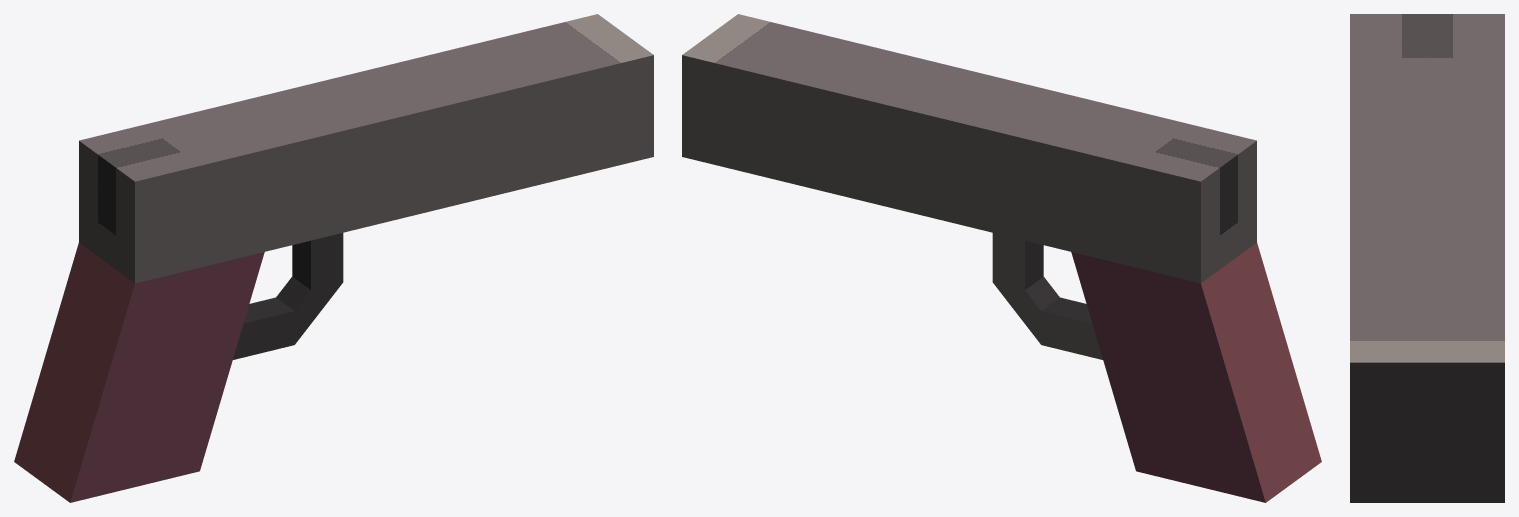
The model's file is gun.gltf.
The picture shows the model from 3 angles, left to right: view 1: azimuth 30°, elevation 25°; view 2: azimuth 150°, elevation 25°; view 3: azimuth 270°, elevation 25°; orthographic projection. The views are drawn at different scales.
Parts seen in each view (by area): view 1: mesh (×2); view 2: mesh (×2); view 3: mesh.
Boxes of the visible parts, x1=… form: mesh (×2): x1=14, y1=14, x2=653, y2=502; mesh (×2): x1=682, y1=14, x2=1321, y2=502; mesh: x1=1350, y1=14, x2=1504, y2=502.
Size of the model in its own units: 0.5625 by 0.2812 by 0.0938.
Materials: 1 (1 with a texture image).
